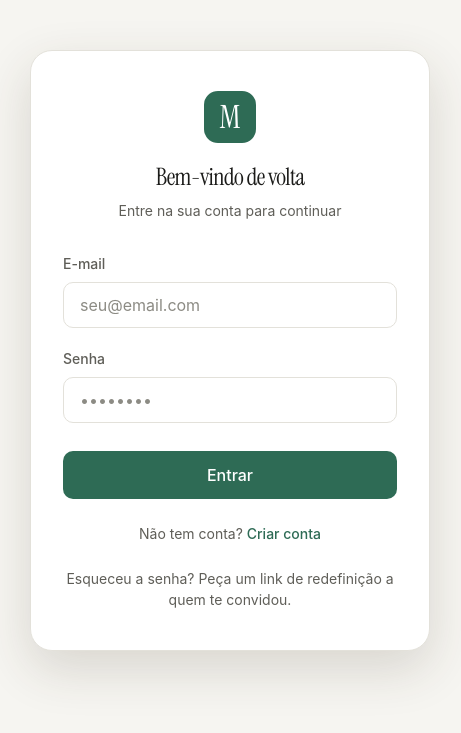
Test: LoginPage — mensagens de erro em português › senha errada
Type "ana@x.com" into the field labelled "E-mail" at (230, 304), box [63,281,397,327]
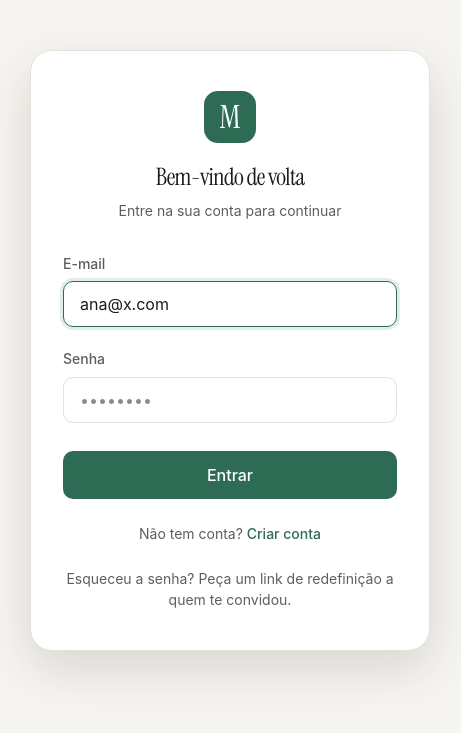
Type "errada-123" into the password field labelled "Senha" at (230, 399), box [63,376,397,422]
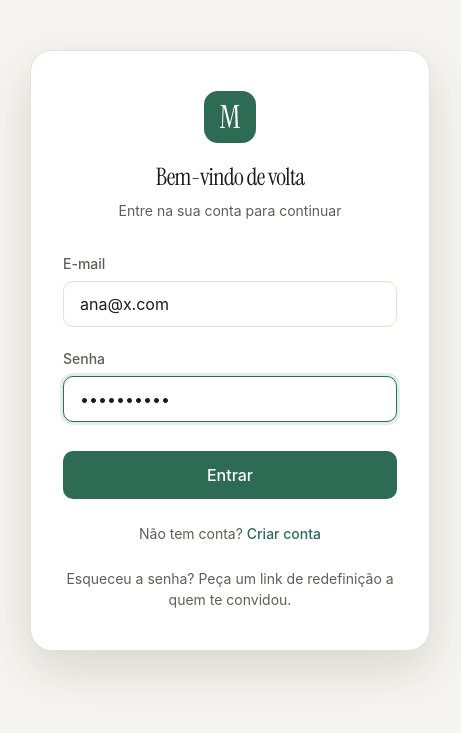
Click the button "Entrar" at (230, 474), box [63,450,397,498]
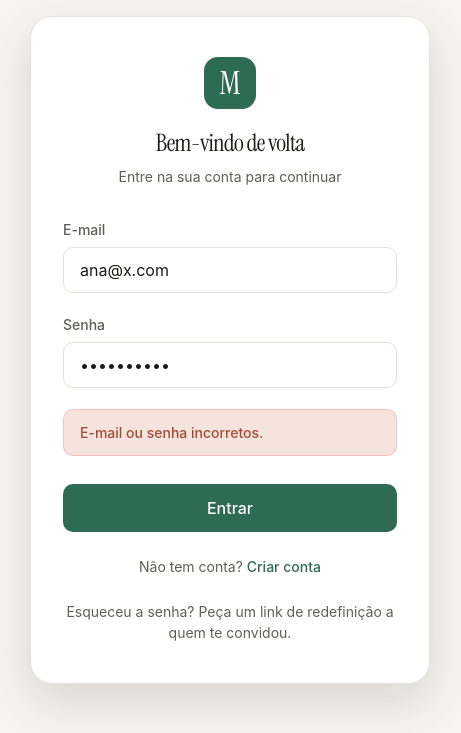
Expected: the text "E-mail ou senha incorretos." is shown, [63,409,397,456]
